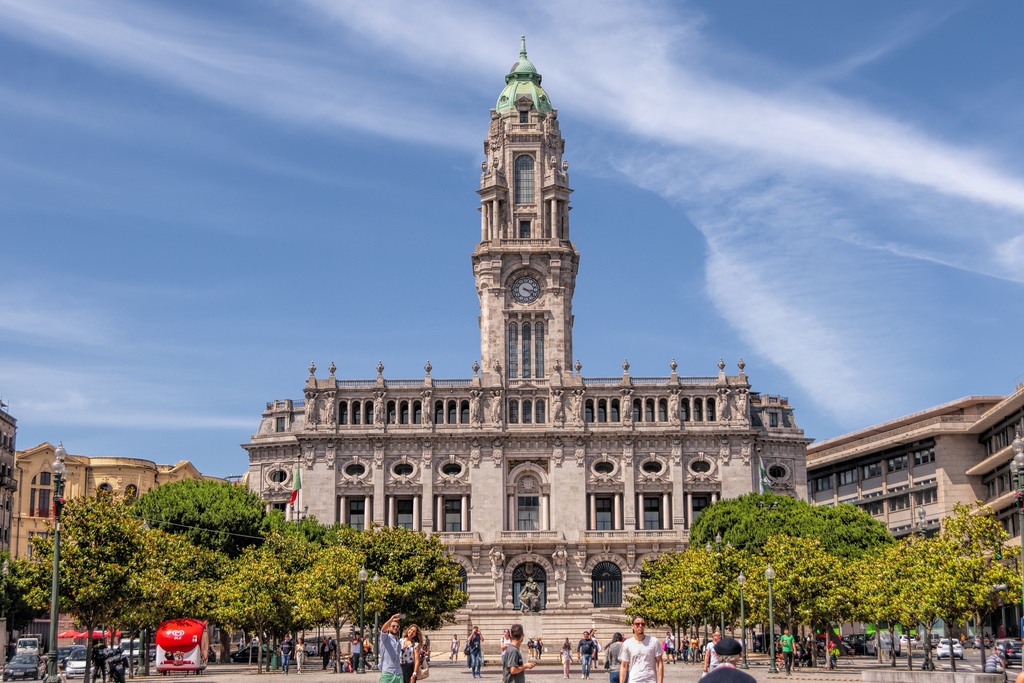camara: (240, 36, 813, 638)
